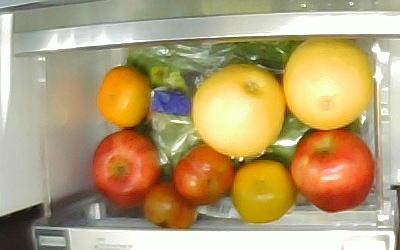apple: (290, 129, 375, 213), (92, 131, 160, 204)
grapefruit: (191, 63, 284, 155), (282, 38, 371, 131)
persimmon: (231, 160, 295, 222), (95, 66, 150, 128), (138, 96, 186, 163)
prune: (173, 144, 234, 203), (144, 181, 199, 229)
